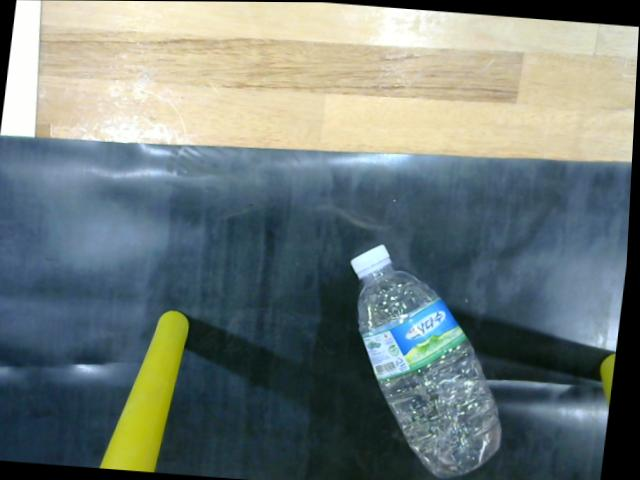bottle: (350, 232, 519, 480)
